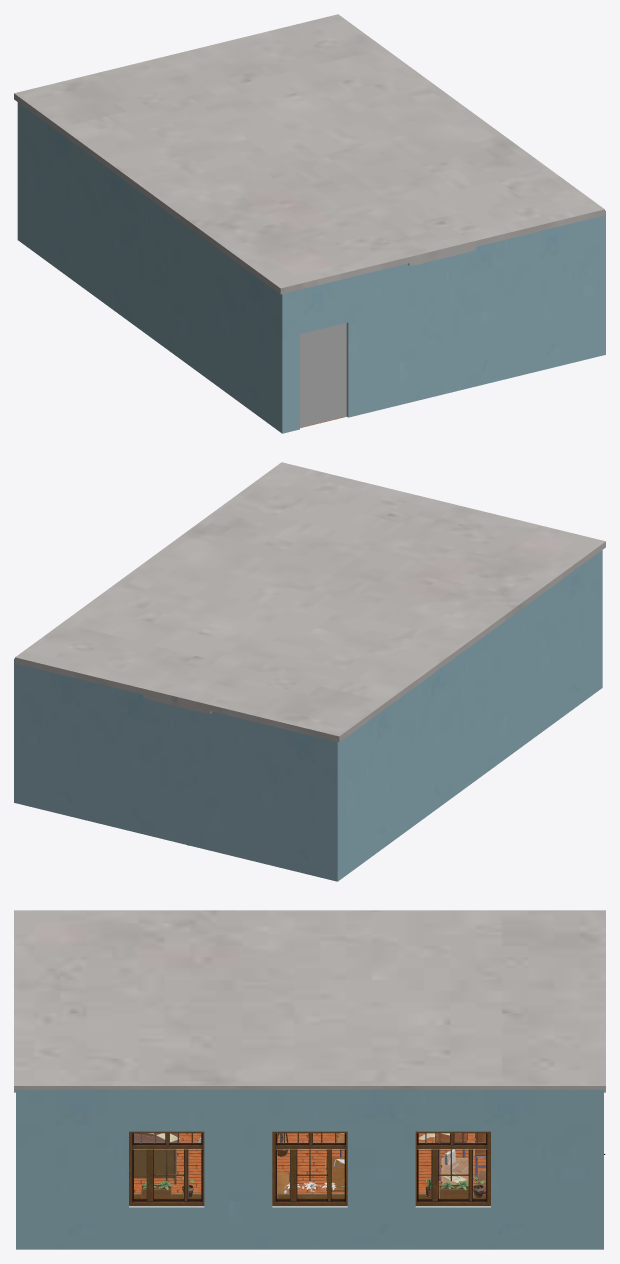
File: classroom.glb
3 renders of one model, top to bottom at view 1: azimuth 30°, elevation 25°; view 2: azimuth 150°, elevation 25°; view 3: azimuth 270°, elevation 25°, orthographic. The views are drawn at different scales.
Parts seen in each view (by area): view 1: Celling, Walls, Plane.001; view 2: Celling, Walls; view 3: Celling, Walls, Winodws, Plane_Plane.002, Teachers_Desk_c40c33, Winodws_b09430, Desk_3.003_e3c00a, Desk_1.001_a2116b, Plant_2.001_7653fd, Desk_4.
Part boxes in pixels (<box>): Celling: <box>14,14,604,294</box>; Walls: <box>17,102,605,433</box>; Plane.001: <box>300,323,346,427</box>; Celling: <box>15,462,605,742</box>; Walls: <box>14,550,602,881</box>; Celling: <box>14,910,605,1092</box>; Walls: <box>16,1089,603,1249</box>; Winodws: <box>129,1131,490,1205</box>; Plane_Plane.002: <box>134,1133,485,1193</box>; Teachers_Desk_c40c33: <box>134,1133,179,1184</box>; Winodws_b09430: <box>132,1133,486,1198</box>; Desk_3.003_e3c00a: <box>435,1133,485,1180</box>; Desk_1.001_a2116b: <box>441,1157,485,1188</box>; Plant_2.001_7653fd: <box>439,1181,468,1198</box>; Desk_4: <box>326,1157,344,1191</box>.
Size of the model in its own units: 44.96 by 19.7 by 63.63.
Materials: 40 (38 with a texture image).
